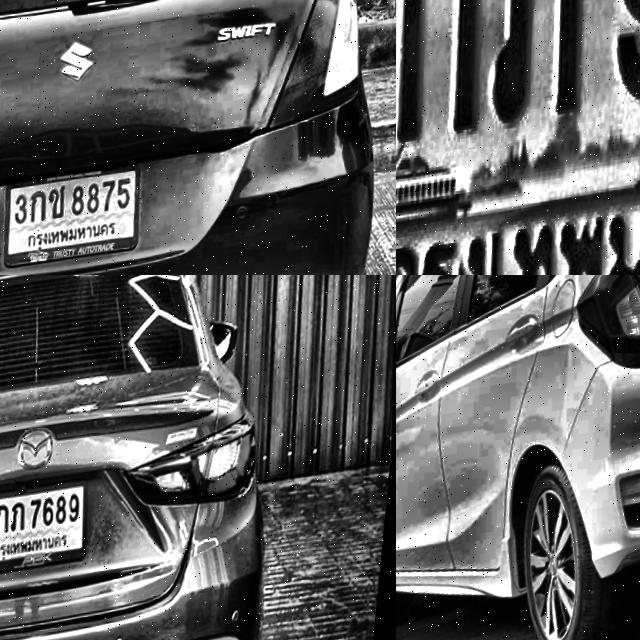license-plate: (396, 0, 640, 275), (7, 161, 156, 275), (0, 467, 103, 594)
